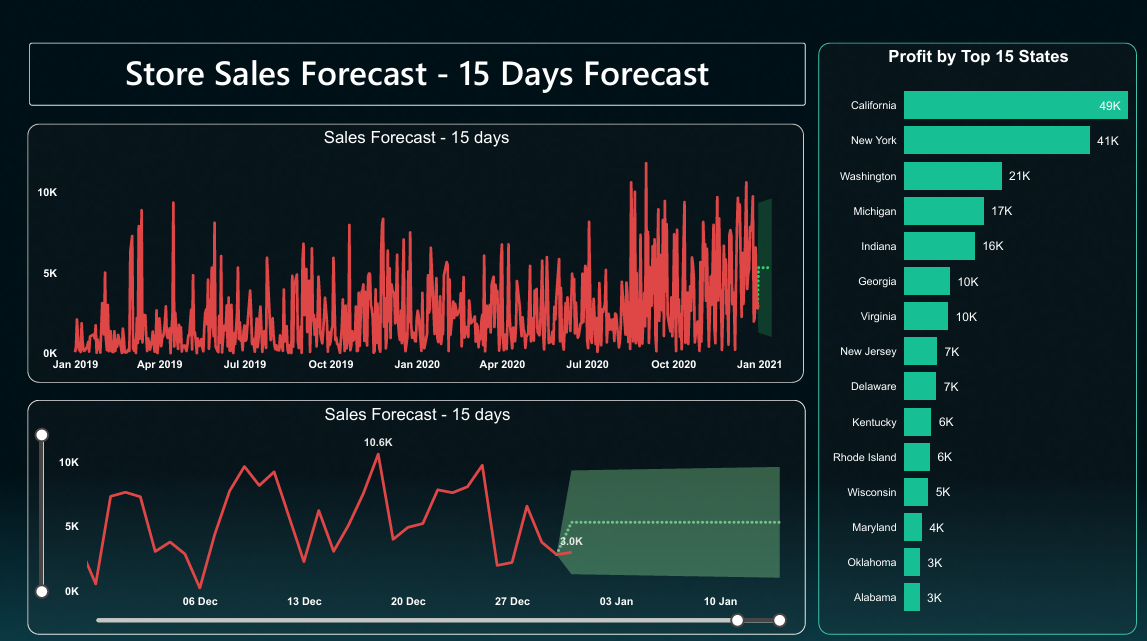

The dashboard page shown, as its layout file describes it:
{"tool":"powerbi","page":{"name":"Forecast","canvas":[1280,720],"ordinal":1},"visuals":[{"type":"lineChart","title":"Sales Forecast - 15 days","fields":{"Y":["Sum(SuperStore_Sales_Dataset.Sales)"],"Category":["SuperStore_Sales_Dataset.Order Date"]},"box":[31.6,138.6,863.1,288.2],"z":0},{"type":"lineChart","title":"Sales Forecast - 15 days","fields":{"Y":["Sum(SuperStore_Sales_Dataset.Sales)"],"Category":["SuperStore_Sales_Dataset.Order Date"]},"box":[31.6,446,865.9,260.7],"z":1000},{"type":"clusteredBarChart","title":"Profit by Top 15 States","fields":{"Category":["SuperStore_Sales_Dataset.State"],"Y":["Sum(SuperStore_Sales_Dataset.Profit)"]},"box":[911.2,49.4,354,657.3],"z":2000},{"type":"textbox","box":[34.3,49.4,863.1,70],"z":3000}]}

Visuals, with their boxes in screenshot pixels (x1, y1, x2, y2), scaled from the page's 1280x720 canvas onto the 1147x641 screenshot:
"Sales Forecast - 15 days" lineChart: BBox(28, 123, 802, 380)
"Sales Forecast - 15 days" lineChart: BBox(28, 397, 804, 629)
"Profit by Top 15 States" clusteredBarChart: BBox(817, 44, 1134, 629)
textbox: BBox(31, 44, 804, 106)
